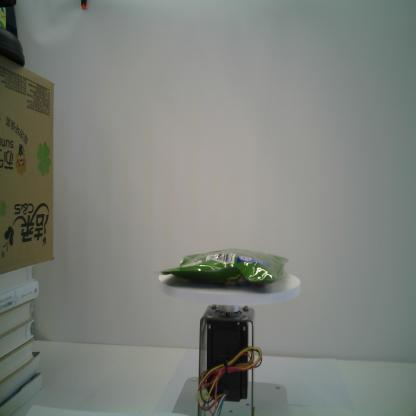Dried Fruit: (148, 247, 296, 290)
